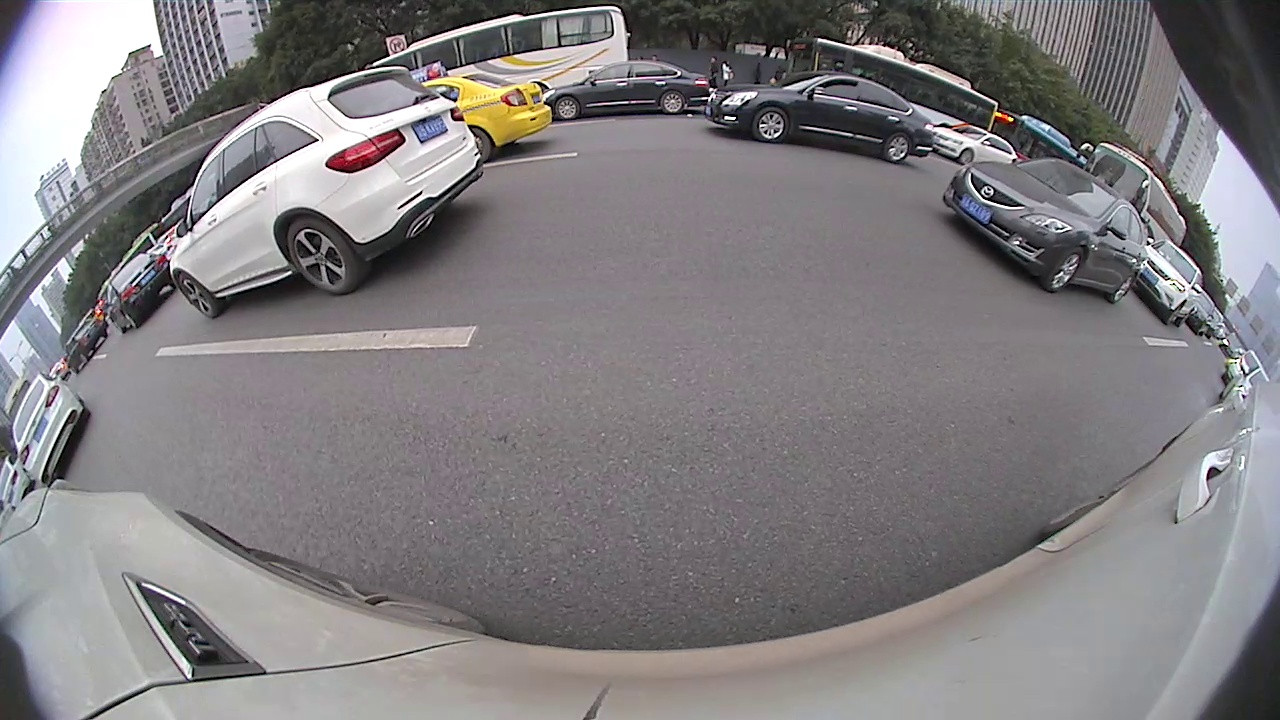bus: (362, 5, 631, 106), (785, 37, 999, 153), (1081, 139, 1192, 252)
car: (168, 64, 482, 319), (940, 156, 1147, 303), (706, 71, 937, 164), (409, 66, 555, 163), (541, 59, 712, 119), (11, 374, 91, 484), (1138, 237, 1205, 327), (105, 250, 175, 334), (927, 124, 1018, 166), (63, 316, 112, 374)
front: (174, 273, 217, 319), (1044, 250, 1082, 295), (752, 107, 789, 143), (554, 96, 580, 120), (959, 149, 974, 165)
rear: (287, 218, 355, 295), (886, 132, 911, 163), (1111, 272, 1135, 304), (662, 92, 683, 112)
